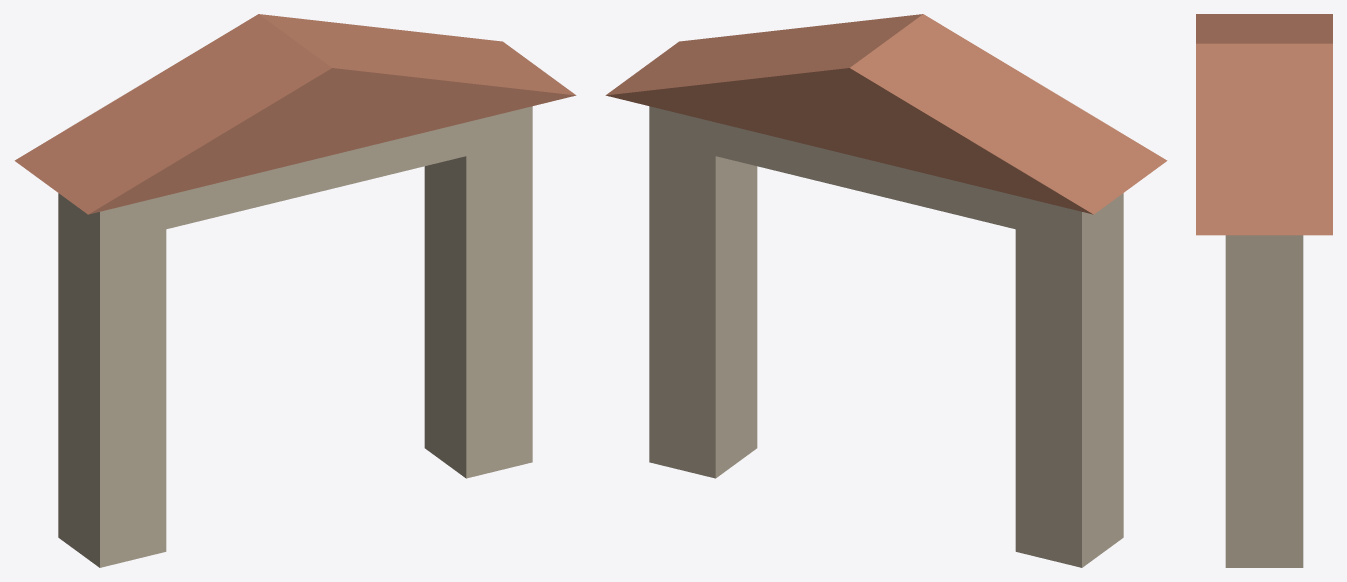
Rendered from village_gate.glb.
The picture shows the model from 3 angles, left to right: view 1: azimuth 30°, elevation 25°; view 2: azimuth 150°, elevation 25°; view 3: azimuth 270°, elevation 25°; orthographic projection. The views are drawn at different scales.
Parts seen in each view (by area): view 1: part_3, part_0, part_1, part_2; view 2: part_3, part_0, part_1, part_2; view 3: part_3, part_1, part_2.
Boxes of the visible parts, left/top/right/bottom form: part_3: left=14, top=14, right=576, bottom=214; part_0: left=58, top=193, right=166, bottom=567; part_1: left=424, top=106, right=532, bottom=478; part_2: left=58, top=111, right=532, bottom=243; part_3: left=605, top=14, right=1167, bottom=214; part_0: left=1015, top=193, right=1123, bottom=567; part_1: left=649, top=106, right=757, bottom=478; part_2: left=649, top=115, right=1123, bottom=242; part_3: left=1196, top=14, right=1332, bottom=235; part_1: left=1225, top=235, right=1303, bottom=567; part_2: left=1225, top=235, right=1303, bottom=268.
Size of the model in its own units: 4.4 by 3.95 by 1.15.
